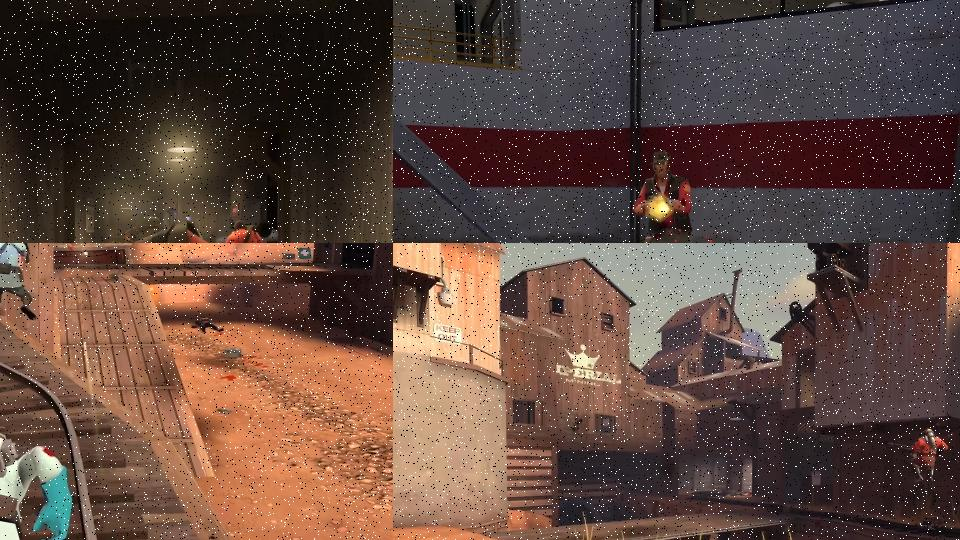Enemy: (0, 418, 81, 540), (632, 150, 729, 243), (885, 422, 949, 489), (0, 243, 41, 326), (225, 217, 277, 243), (189, 315, 226, 334)
